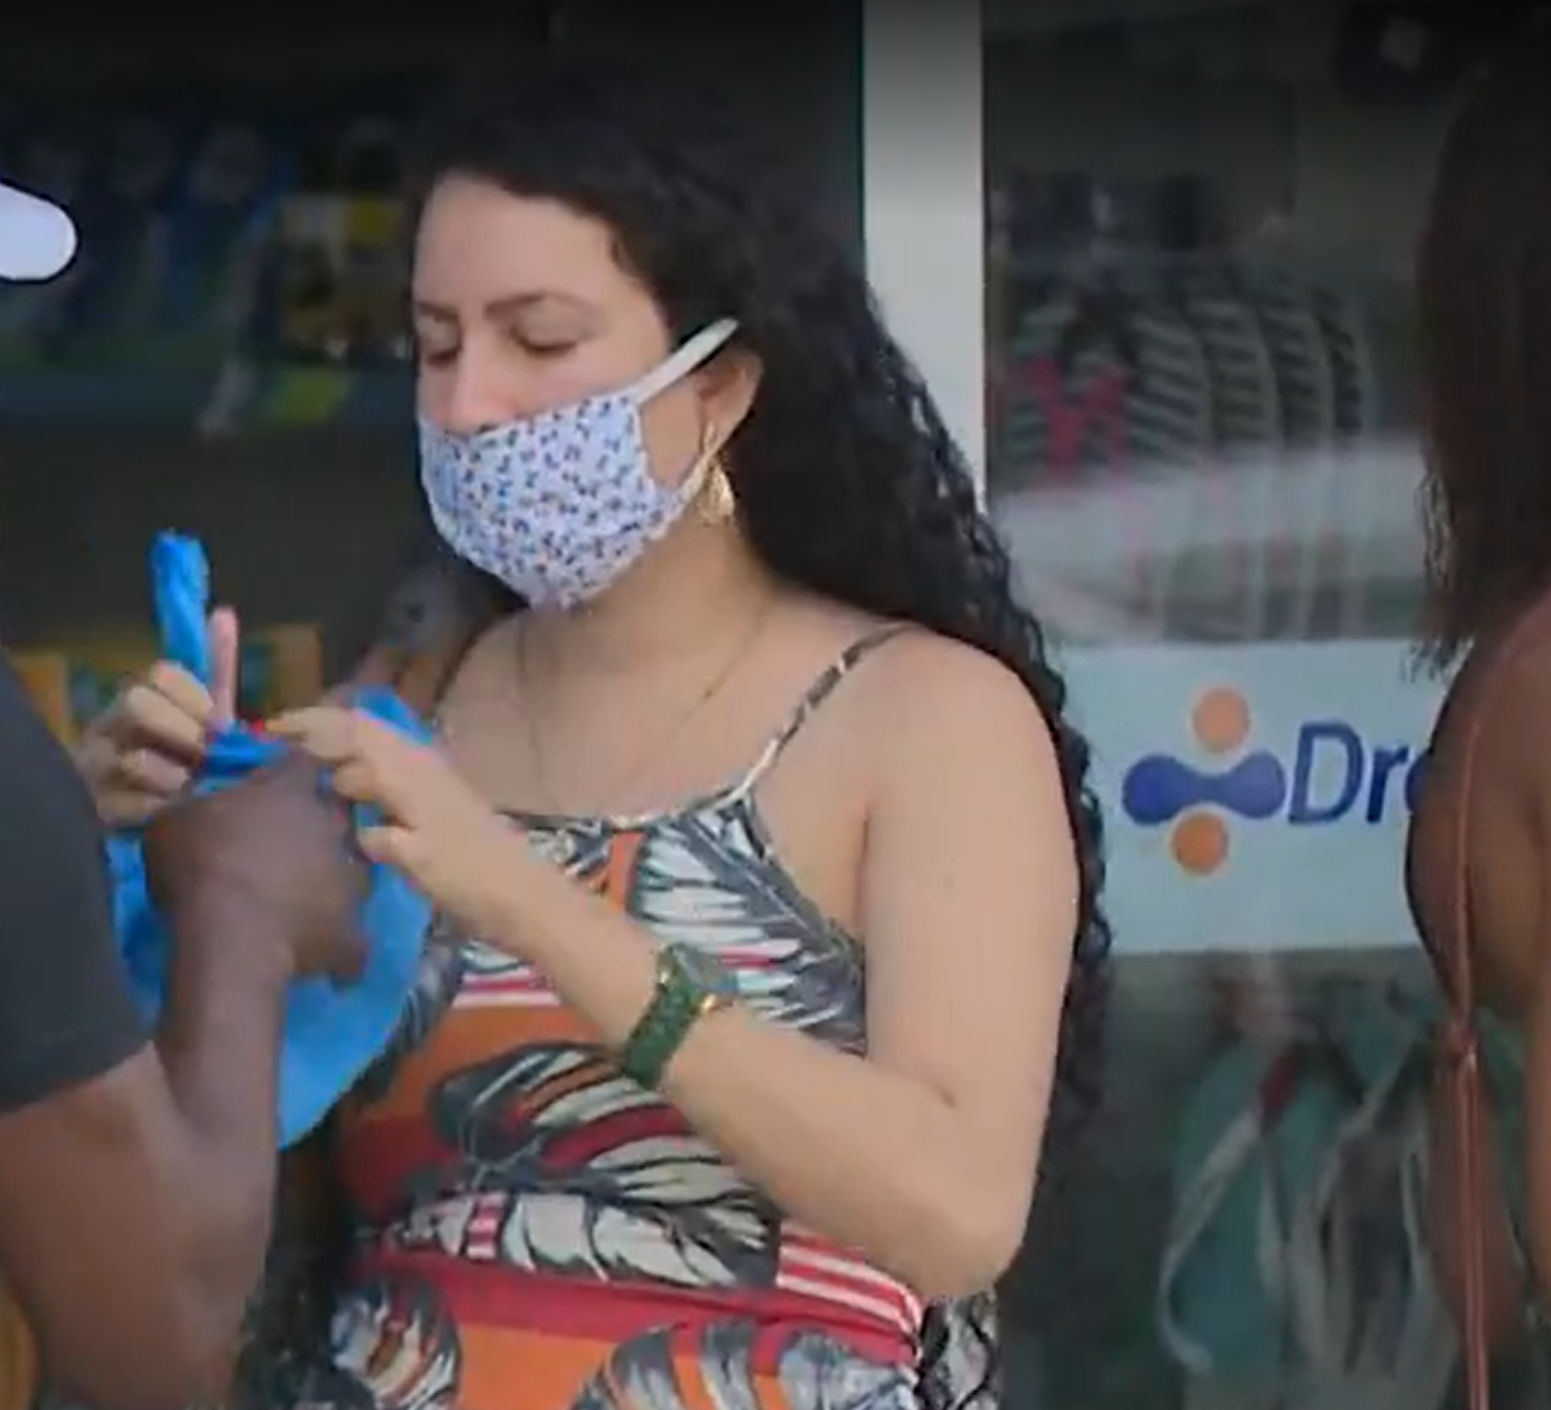mask_weared_incorrect: (331, 110, 834, 646)
